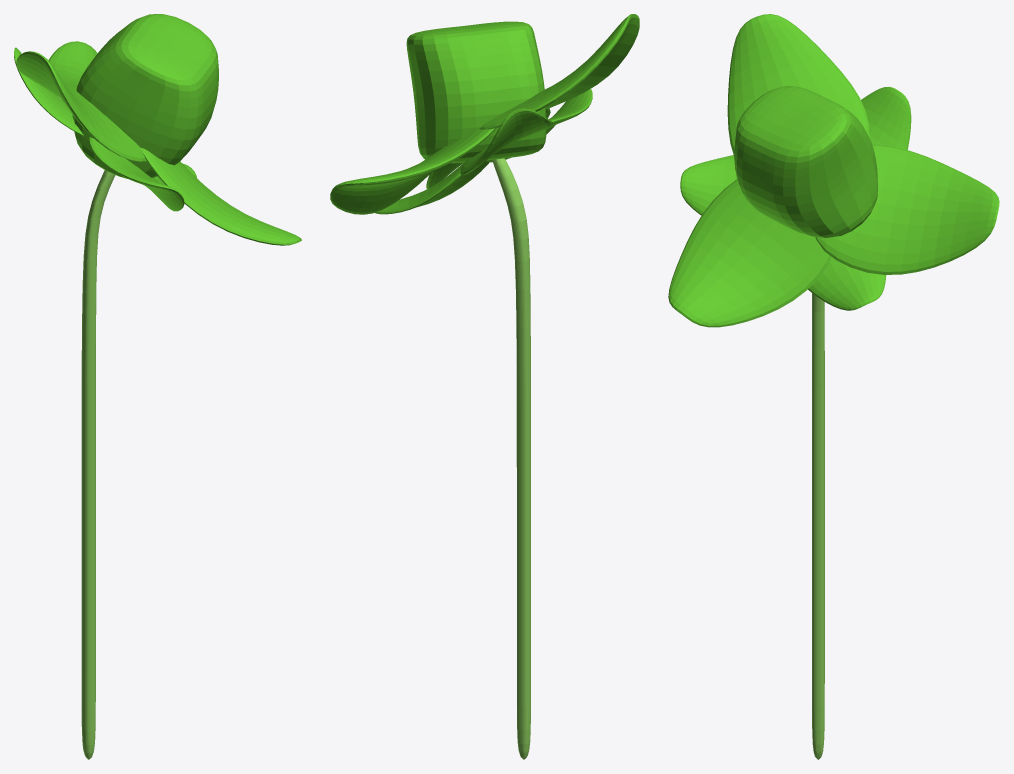
The model's file is strwBud.fbx.
3 views of the same model, side by side, from view 1: azimuth 30°, elevation 25°; view 2: azimuth 150°, elevation 25°; view 3: azimuth 270°, elevation 25° (orthographic). The views are drawn at different scales.
Visible parts, largest first — view 1: Stem.007; view 2: Stem.007; view 3: Stem.007.
Part boxes in pixels (x1,y1,x2,y2): Stem.007: [14, 14, 301, 759]; Stem.007: [330, 14, 639, 759]; Stem.007: [668, 14, 999, 759].
Size of the model in its own units: 40.95 by 128 by 54.2.
